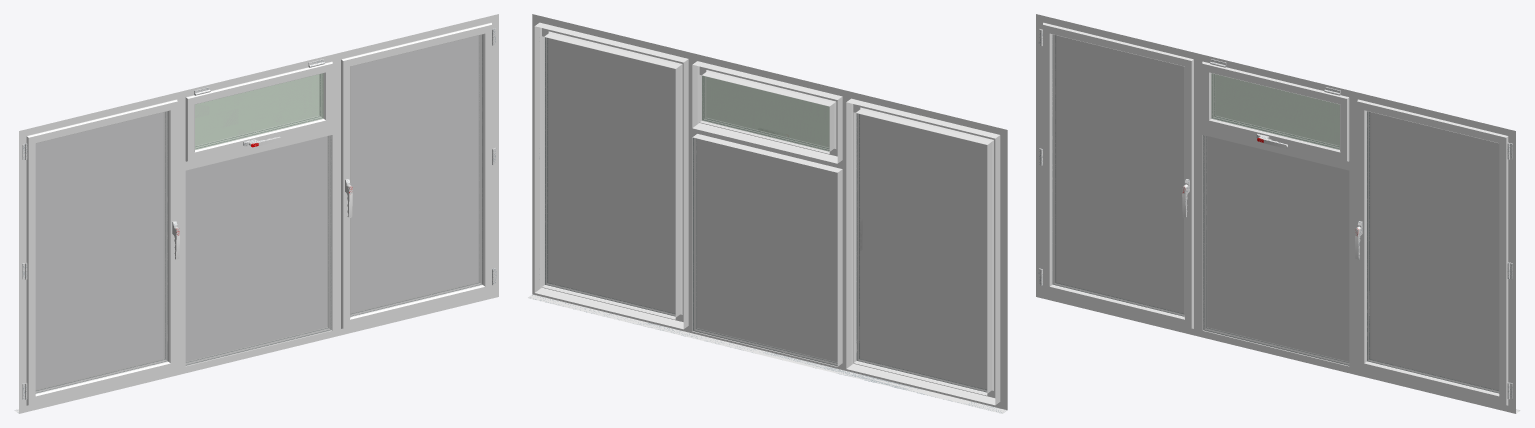
Rendered from Window1_os_220x124x[3 casement].dae.
The picture shows the model from 3 angles, left to right: view 1: azimuth 30°, elevation 25°; view 2: azimuth 150°, elevation 25°; view 3: azimuth 330°, elevation 25°; orthographic projection.
Parts seen in each view (by area): view 1: group_24 (×5), group_15 (×2), group_23 (×2), group_7 (×2), group_22 (×3), group_14 (×2), group_6 (×2); view 2: group_24 (×11), group_15 (×2), group_23 (×2), group_7 (×2), group_14 (×5), group_22 (×6), group_6 (×4); view 3: group_24 (×5), group_23 (×2), group_15 (×2), group_7 (×2), group_14 (×3), group_22 (×2), group_6 (×2).
Boxes of the visible parts, x1=… form: group_24 (×5): x1=19, y1=14, x2=498, y2=413; group_15 (×2): x1=35, y1=111, x2=167, y2=393; group_23 (×2): x1=350, y1=34, x2=482, y2=316; group_7 (×2): x1=195, y1=73, x2=323, y2=149; group_22 (×3): x1=341, y1=22, x2=491, y2=328; group_14 (×2): x1=26, y1=99, x2=177, y2=405; group_6 (×2): x1=185, y1=61, x2=332, y2=161; group_24 (×11): x1=528, y1=14, x2=1007, y2=413; group_15 (×2): x1=856, y1=113, x2=987, y2=392; group_23 (×2): x1=545, y1=37, x2=675, y2=316; group_7 (×2): x1=702, y1=75, x2=829, y2=151; group_14 (×5): x1=847, y1=102, x2=1000, y2=404; group_22 (×6): x1=535, y1=26, x2=685, y2=327; group_6 (×4): x1=693, y1=65, x2=837, y2=162; group_24 (×5): x1=1036, y1=14, x2=1515, y2=413; group_23 (×2): x1=1367, y1=111, x2=1499, y2=393; group_15 (×2): x1=1052, y1=34, x2=1184, y2=316; group_7 (×2): x1=1211, y1=73, x2=1339, y2=149; group_14 (×3): x1=1043, y1=22, x2=1193, y2=328; group_22 (×2): x1=1357, y1=99, x2=1508, y2=405; group_6 (×2): x1=1202, y1=61, x2=1349, y2=161.
Bounding box in the file's own units: 86.63 × 3.55 × 48.82.
